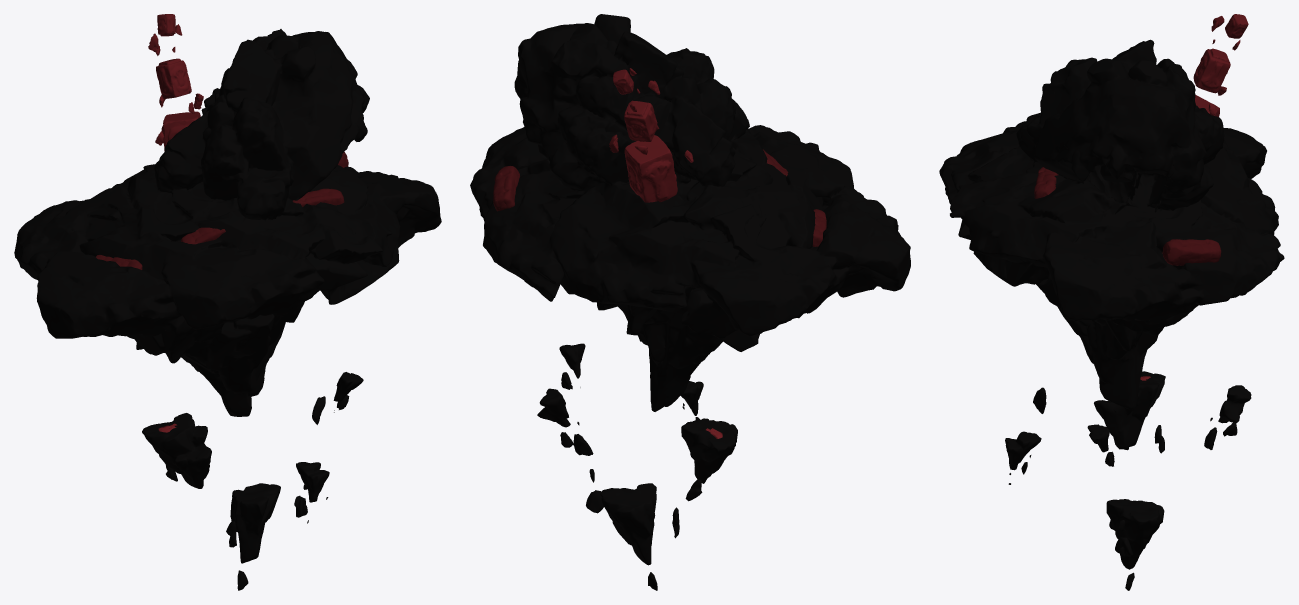
Rendered from floating_island_oculuskitbashchallenge.glb.
3 renders of one model, left to right at view 1: azimuth 30°, elevation 25°; view 2: azimuth 150°, elevation 25°; view 3: azimuth 270°, elevation 25°, orthographic. The views are drawn at different scales.
Visible parts, largest first — view 1: Object_2, Object_3; view 2: Object_2, Object_3; view 3: Object_2, Object_3.
Part boxes in pixels (<box>): Object_2: <box>14,29,441,590</box>; Object_3: <box>96,14,348,432</box>; Object_2: <box>470,14,910,590</box>; Object_3: <box>493,68,826,438</box>; Object_2: <box>939,39,1284,590</box>; Object_3: <box>1034,14,1248,380</box>.
Size of the model in its own units: 395 by 518 by 287.
